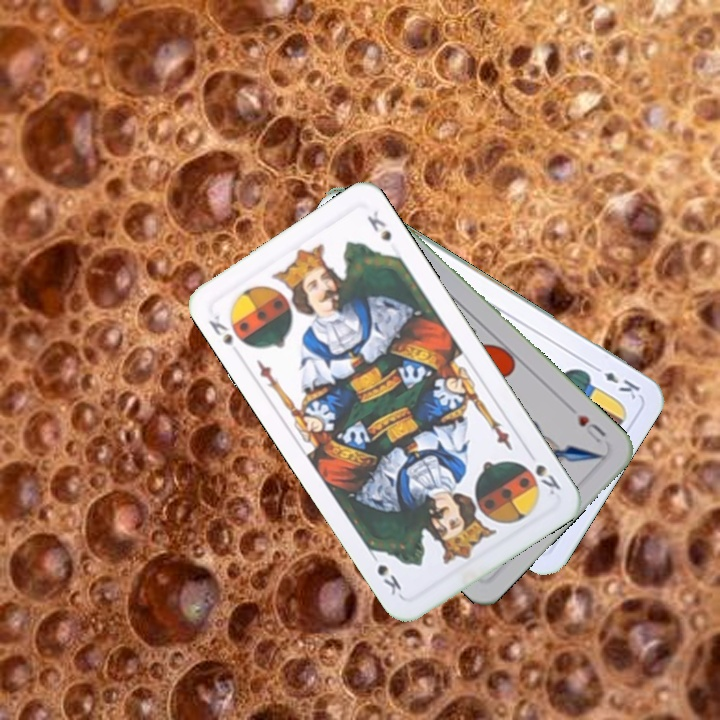EK: (588, 361, 643, 402)
HU: (572, 410, 609, 449)
SK: (531, 460, 564, 498), (204, 310, 236, 349)
